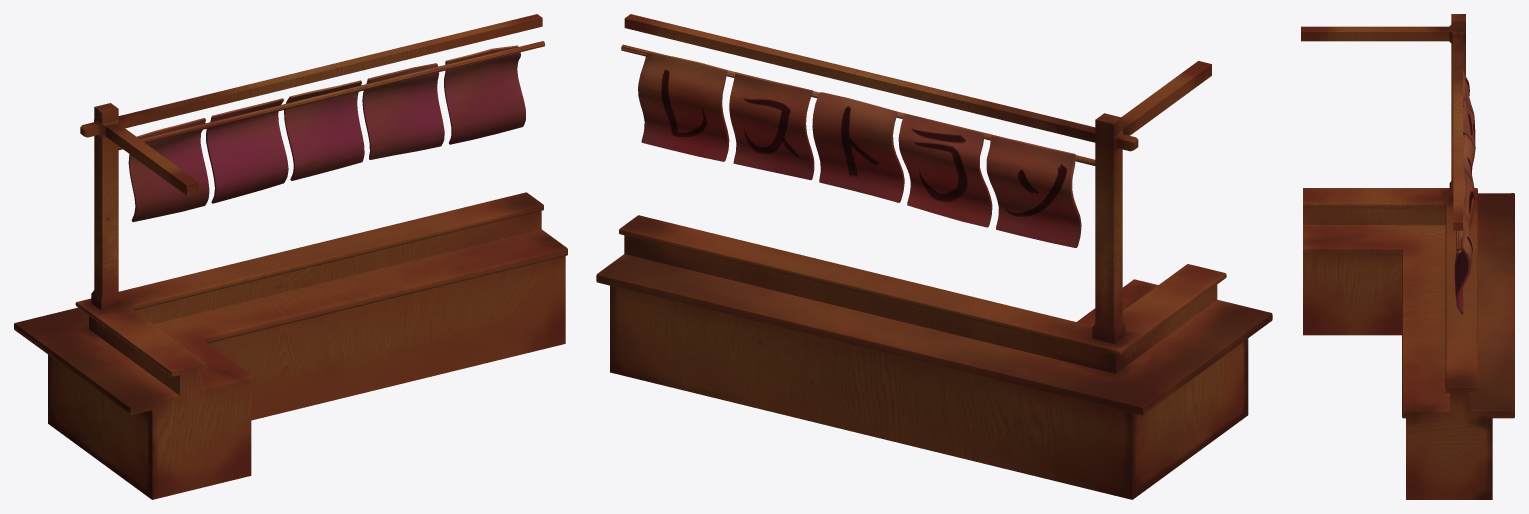
Rendered from ENV_Bar.fbx.
The picture shows the model from 3 angles, left to right: view 1: azimuth 30°, elevation 25°; view 2: azimuth 150°, elevation 25°; view 3: azimuth 270°, elevation 25°; orthographic projection. The views are drawn at different scales.
Parts seen in each view (by area): view 1: m_Bar; view 2: m_Bar; view 3: m_Bar.
Boxes of the visible parts, x1,y1,x2,y2 form: m_Bar: (14, 14, 567, 499); m_Bar: (596, 14, 1272, 499); m_Bar: (1301, 14, 1514, 499).
Bounding box in the file's own units: 1263 × 773 × 515.
1 material, 1 textured.
